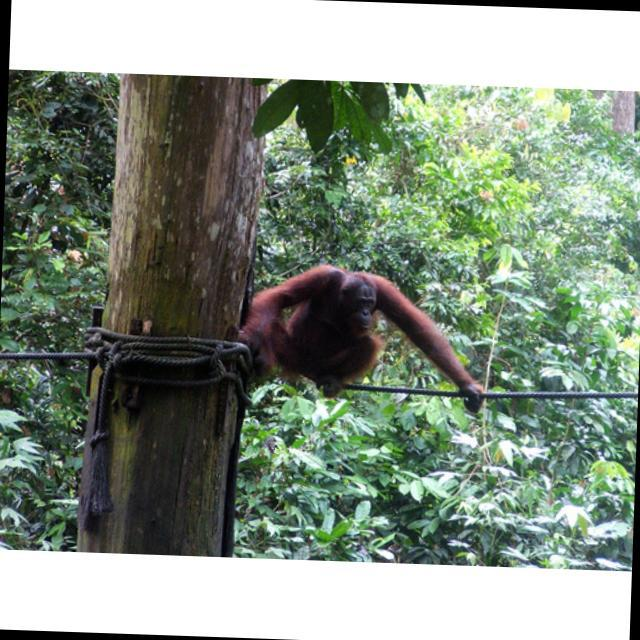Orangutan: (245, 258, 477, 415)
